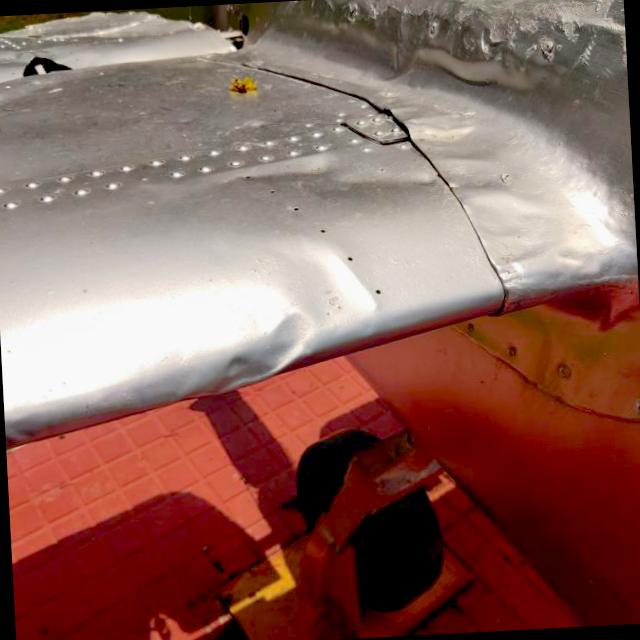dent: (160, 286, 326, 418), (224, 140, 399, 218)
